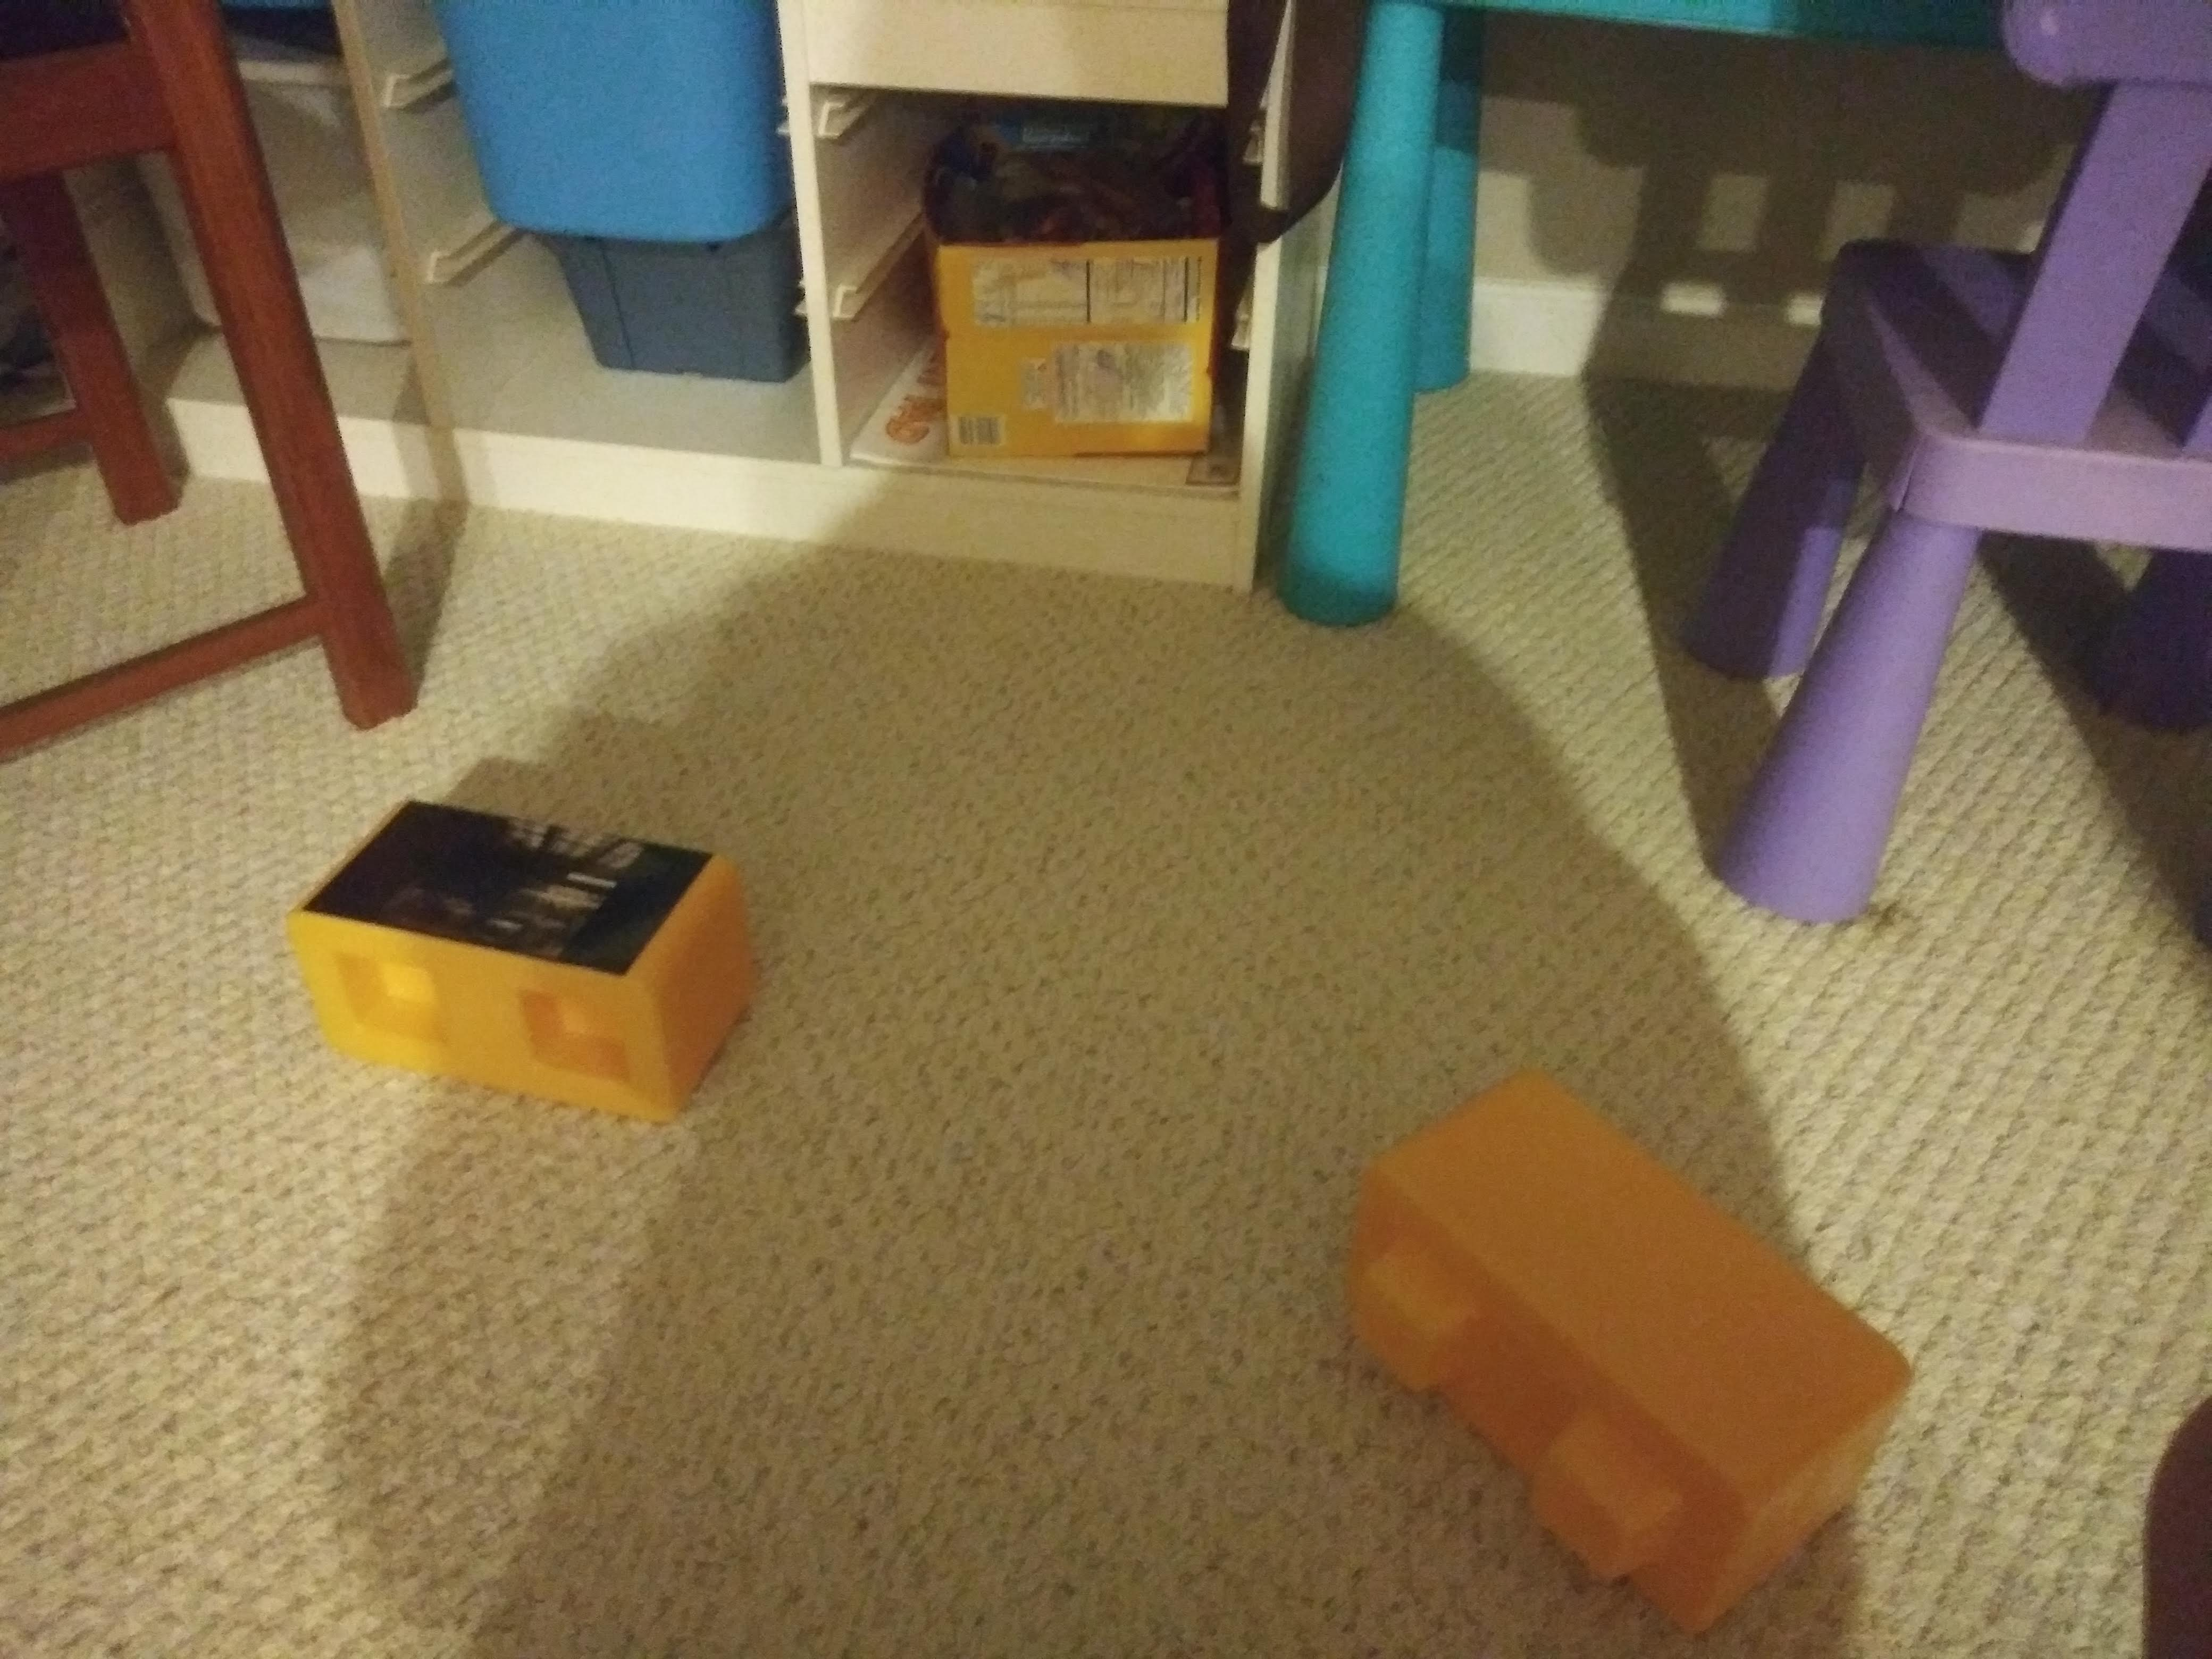skystone: (317, 802, 723, 1100)
stone: (1359, 1119, 1843, 1549)
